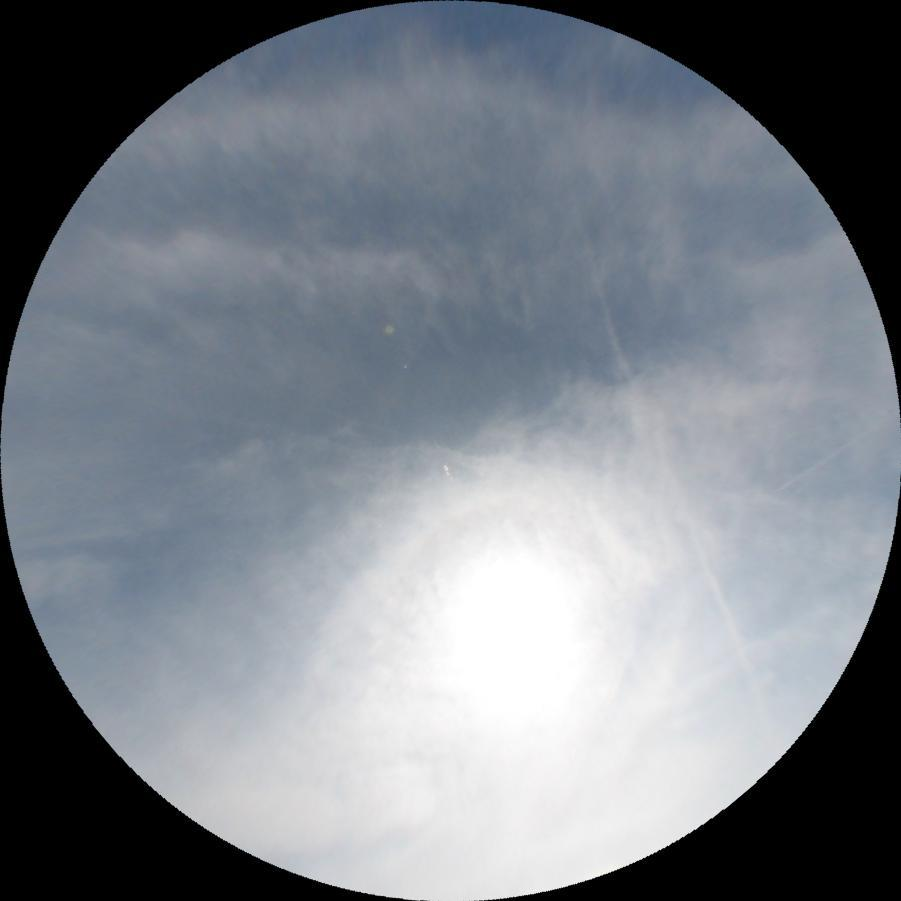contrail old: (554, 205, 750, 660)
contrail young: (773, 419, 884, 495)
sun: (408, 530, 623, 752)
